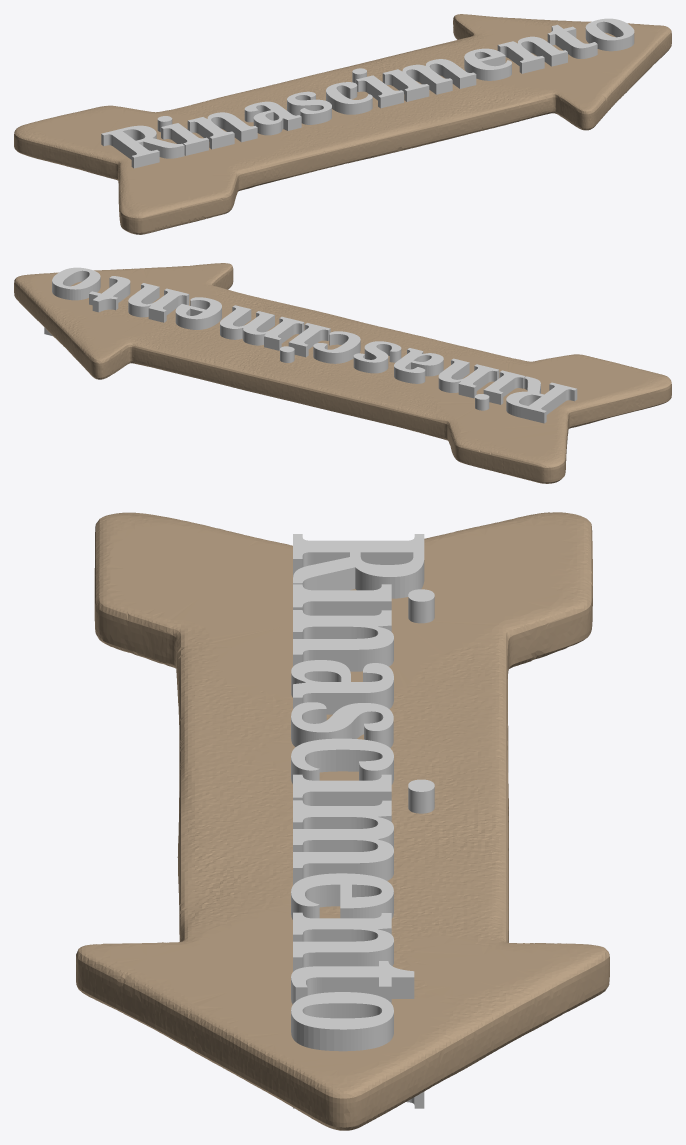
The model's file is Cartello Rinascimento.glb.
3 views of the same model, one above another, from view 1: azimuth 30°, elevation 25°; view 2: azimuth 150°, elevation 25°; view 3: azimuth 270°, elevation 25° (orthographic). The views are drawn at different scales.
Visible parts, largest first — view 1: Mesh_Mesh_head_geo.001_lambert2SG.001; view 2: Mesh_Mesh_head_geo.001_lambert2SG.001; view 3: Mesh_Mesh_head_geo.001_lambert2SG.001.
Part boxes in pixels (left/top/right/bottom): Mesh_Mesh_head_geo.001_lambert2SG.001: left=14, top=14, right=671, bottom=234; Mesh_Mesh_head_geo.001_lambert2SG.001: left=14, top=263, right=671, bottom=483; Mesh_Mesh_head_geo.001_lambert2SG.001: left=76, top=512, right=609, bottom=1130.
Bounding box in the file's own units: 0.058 × 0.004 × 0.0223.
